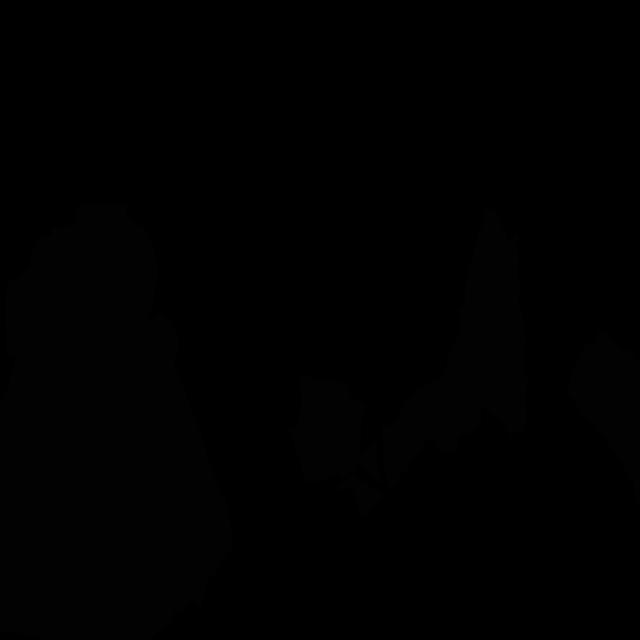cardboard: (0, 201, 157, 640), (100, 311, 233, 640), (445, 208, 529, 439), (567, 330, 640, 503), (382, 373, 485, 490), (288, 375, 365, 484), (338, 473, 383, 518), (356, 439, 383, 484)
